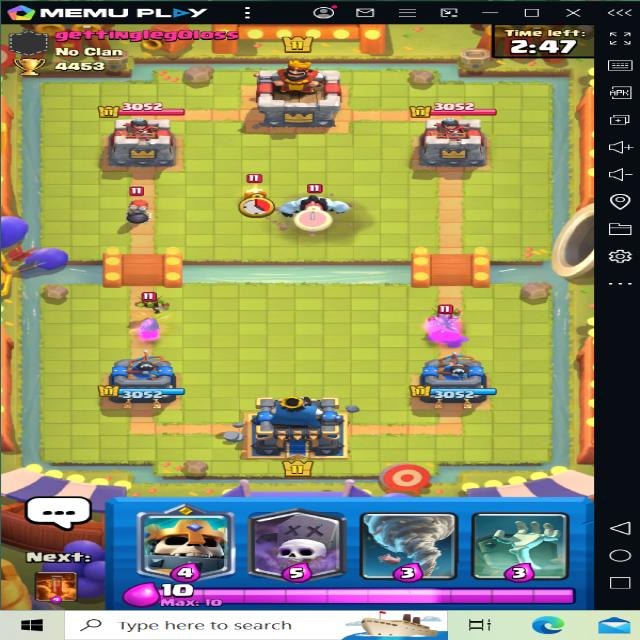bomber: (124, 192, 162, 228)
fire-spirit: (230, 172, 278, 209)
goblin: (133, 287, 178, 318), (430, 302, 465, 328)
ice-golem: (283, 184, 355, 220)
